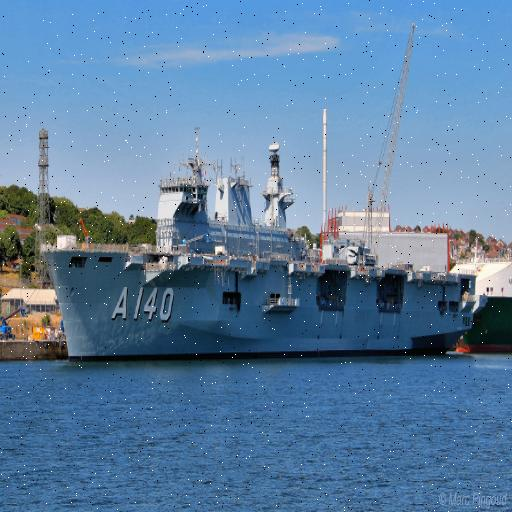Portanaves: (40, 120, 483, 369)
